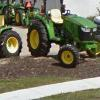Tractor: (10, 4, 100, 73)
